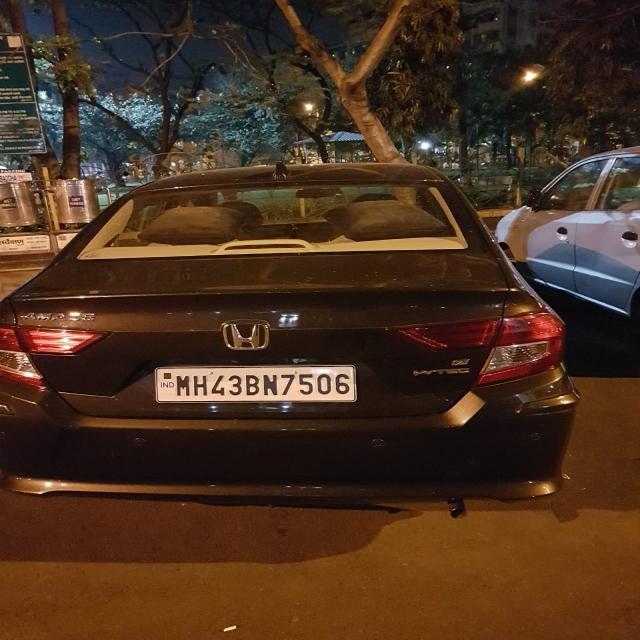Number-Plate: (152, 367, 360, 401)
